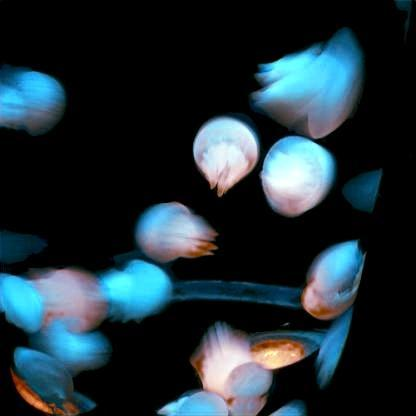Handstand: (251, 36, 365, 134), (261, 137, 339, 217), (190, 318, 256, 400), (195, 119, 258, 201), (134, 200, 217, 261), (30, 270, 104, 332), (35, 325, 115, 382), (1, 64, 66, 134), (17, 344, 81, 406), (108, 264, 170, 320), (304, 240, 362, 295), (0, 271, 46, 335), (300, 275, 357, 323), (226, 366, 272, 416), (154, 390, 228, 416)
